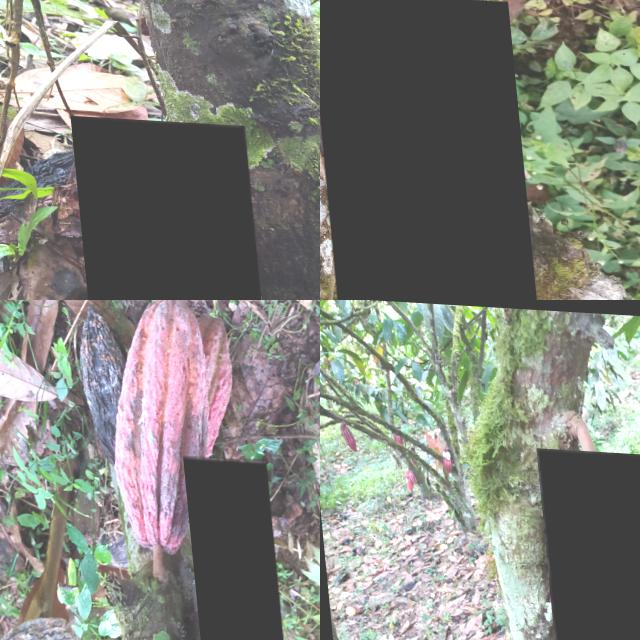Fitoftora: (320, 0, 529, 300), (99, 300, 215, 552), (176, 451, 286, 640), (71, 305, 133, 466)
Monilia: (63, 113, 254, 300), (439, 446, 450, 471)
Sana: (533, 445, 640, 640), (338, 423, 354, 451), (402, 470, 410, 490), (405, 469, 413, 483)
